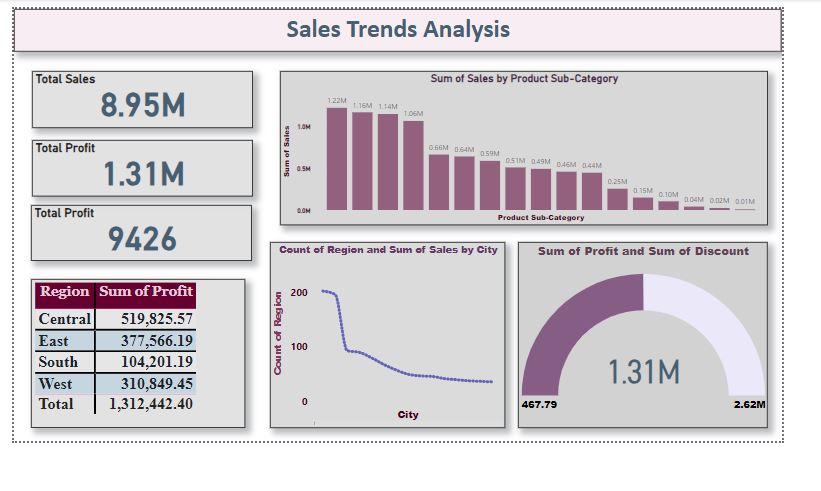

The dashboard page shown, as its layout file describes it:
{"tool":"powerbi","page":{"name":"Page 1","canvas":[1280,720],"ordinal":0},"visuals":[{"type":"textbox","box":[0,0,1278.7,70.6],"z":0},{"type":"card","title":"Total Sales","fields":{"Values":["Sum(Orders.Sales)"]},"box":[30,103.3,368.3,95],"z":1},{"type":"columnChart","fields":{"Y":["Sum(Orders.Sales)"],"Category":["Orders.Product Sub-Category"]},"box":[443.3,103.3,813.3,256.7],"z":4},{"type":"card","title":"Total Profit","fields":{"Values":["Sum(Orders.Profit)"]},"box":[30,218,368,94],"z":5},{"type":"card","title":"Total Profit","fields":{"Values":["CountNonNull(Orders.Order ID)"]},"box":[28.3,326.7,368.3,93.3],"z":6},{"type":"lineChart","fields":{"Category":["Orders.City"],"Y":["CountNonNull(Orders.Region)"]},"box":[426,388,392,310],"z":7},{"type":"tableEx","fields":{"Values":["Orders.Region","Sum(Orders.Profit)"]},"box":[28.3,450,356.7,248.3],"z":8},{"type":"gauge","fields":{"Y":["Sum(Orders.Profit)"],"MinValue":["Sum(Orders.Discount)"]},"box":[840,388,416,310],"z":9}]}

Visuals, with their boxes in screenshot pixels (x1, y1, x2, y2):
textbox: <bbox>13, 6, 793, 49</bbox>
"Total Sales" card: <bbox>31, 69, 256, 127</bbox>
columnChart - Sum(Orders.Sales) x Orders.Product Sub-Category: <bbox>283, 69, 780, 226</bbox>
"Total Profit" card: <bbox>31, 139, 256, 197</bbox>
"Total Profit" card: <bbox>30, 206, 255, 263</bbox>
lineChart - Orders.City x CountNonNull(Orders.Region): <bbox>273, 243, 512, 432</bbox>
tableEx - Orders.Region x Sum(Orders.Profit): <bbox>30, 281, 248, 432</bbox>
gauge - Sum(Orders.Profit) x Sum(Orders.Discount): <bbox>525, 243, 779, 432</bbox>
